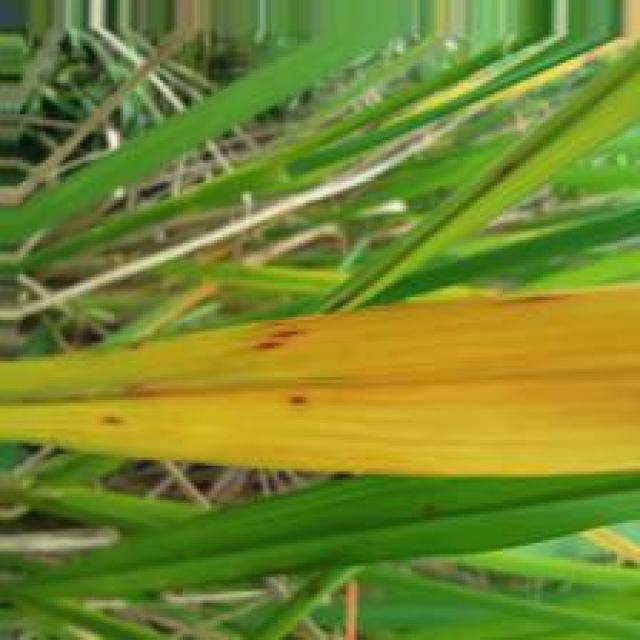Narrow_Brown_Leaf_Spot: (0, 282, 640, 475)
